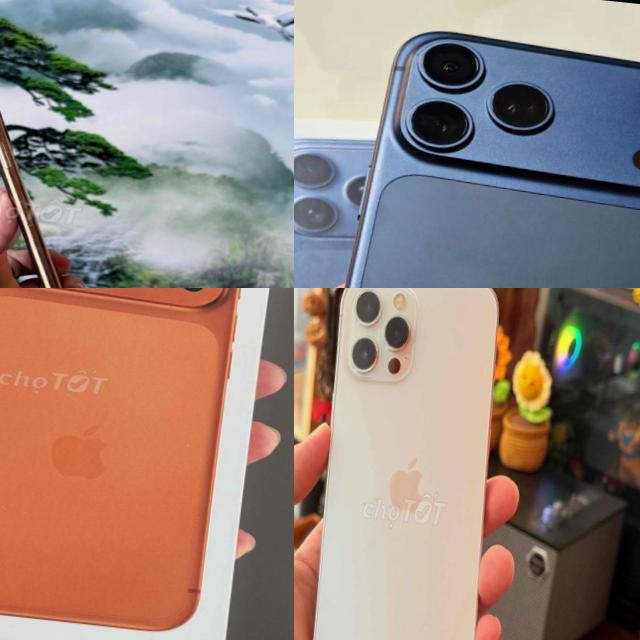gen_11: (0, 85, 116, 288)
gen_12_13: (294, 288, 524, 640)
gen_17: (294, 20, 640, 288), (0, 288, 257, 640)
